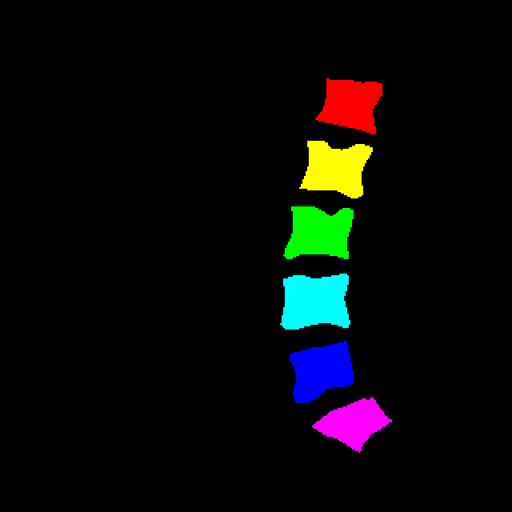L1: (316, 79, 382, 134)
L2: (300, 141, 373, 198)
L3: (286, 206, 352, 259)
L4: (281, 274, 349, 330)
L5: (290, 341, 353, 402)
S1: (313, 397, 392, 452)
